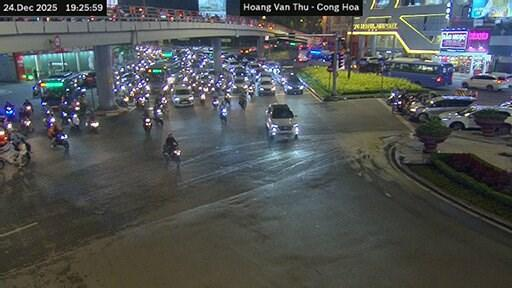motorbike: (0, 140, 28, 167), (163, 144, 179, 166), (51, 134, 67, 148), (19, 117, 32, 134), (67, 112, 79, 130), (85, 117, 98, 133), (3, 104, 15, 121), (154, 106, 163, 124), (19, 104, 31, 117), (136, 94, 147, 108), (32, 80, 41, 97), (144, 117, 152, 133), (60, 111, 69, 124), (218, 108, 226, 122), (211, 98, 218, 108), (224, 93, 230, 104), (240, 97, 246, 108), (199, 93, 204, 103)
